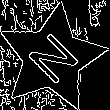N_SE: (20, 26, 84, 90)
